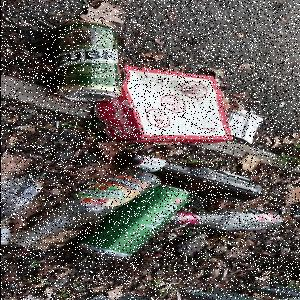Can: (75, 185, 193, 260), (54, 21, 124, 103)
Trash: (92, 65, 233, 145)
